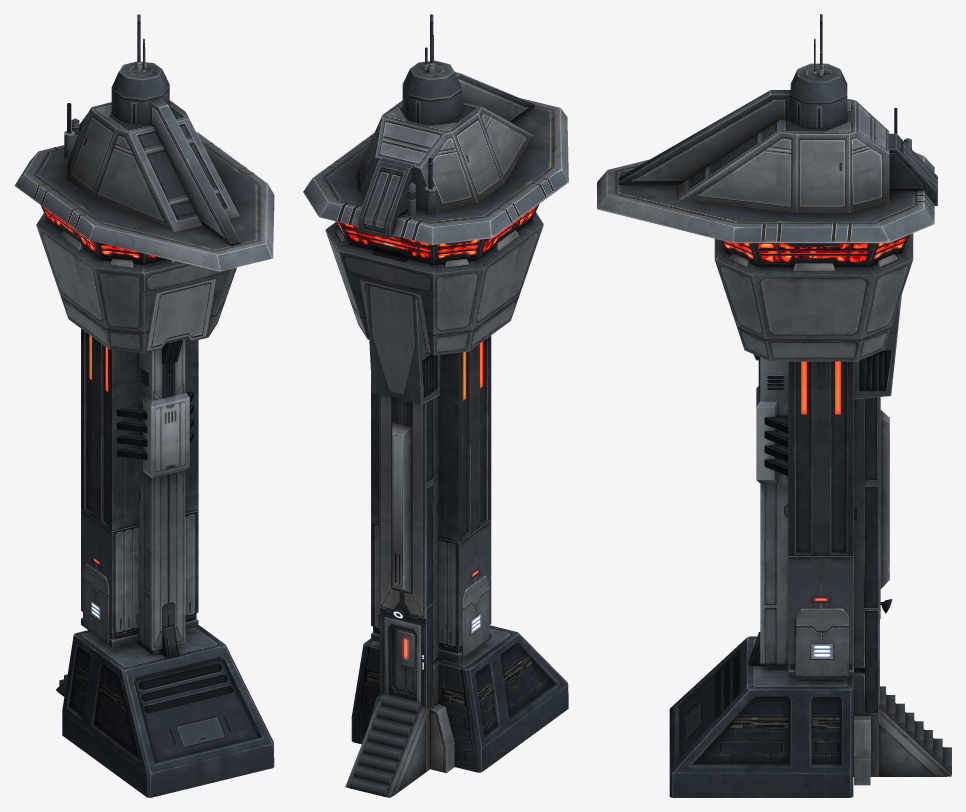
Rendered from all_arch_imp_guardhouse.glb.
The picture shows the model from 3 angles, left to right: view 1: azimuth 30°, elevation 25°; view 2: azimuth 150°, elevation 25°; view 3: azimuth 270°, elevation 25°; orthographic projection. The views are drawn at different scales.
Visible parts, largest first — view 1: all_arch_imp_guardhouse; view 2: all_arch_imp_guardhouse; view 3: all_arch_imp_guardhouse.
Boxes of the visible parts, left/top/right/bottom form: all_arch_imp_guardhouse: left=14, top=14, right=274, bottom=797; all_arch_imp_guardhouse: left=303, top=14, right=568, bottom=797; all_arch_imp_guardhouse: left=597, top=14, right=951, bottom=797.
Bounding box in the file's own units: 0.8186 × 3.02 × 1.29.
1 material, 1 textured.
